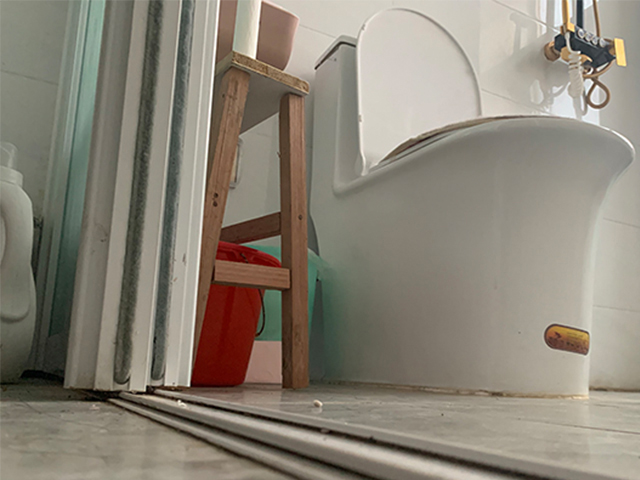closestool: (310, 7, 635, 399)
stool: (195, 51, 309, 390)
